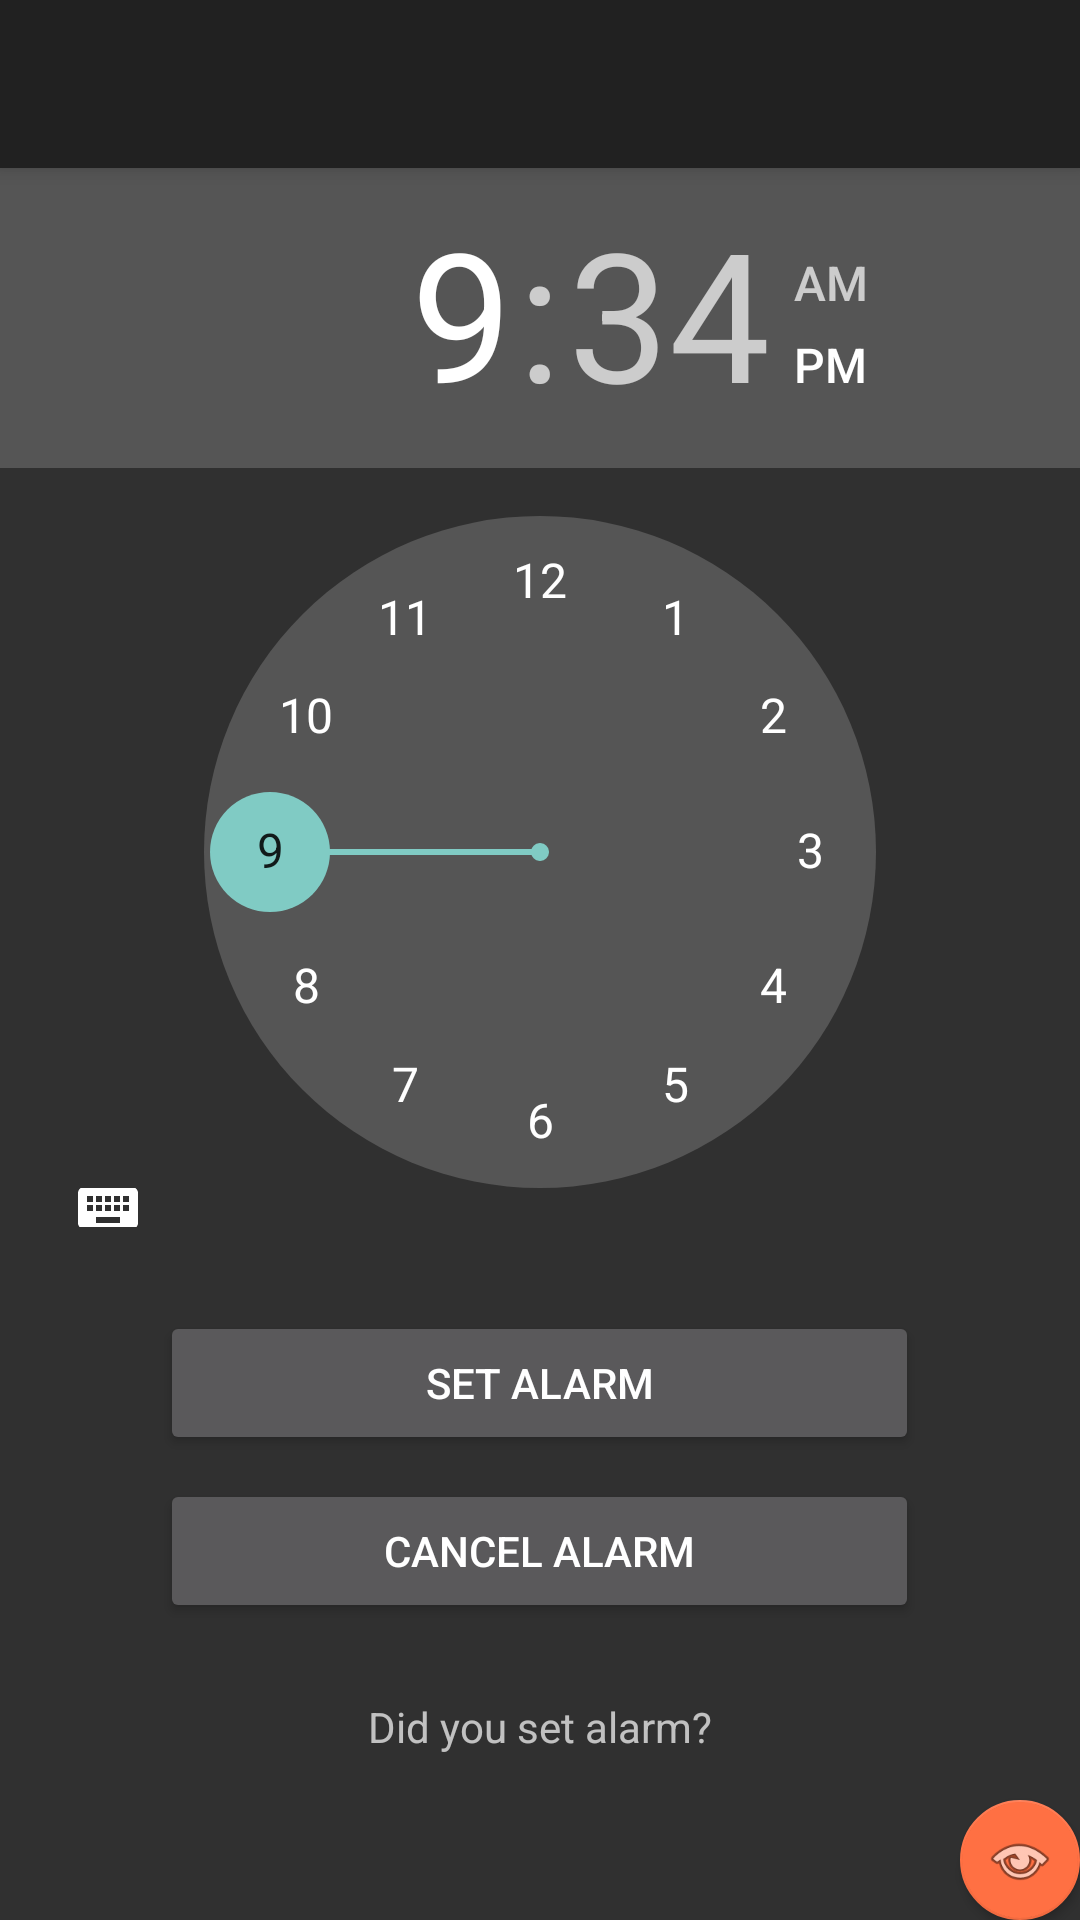

Icon click points for this 1080×1920 phone screenshot, format (x,y):
view: (1020,1860)
